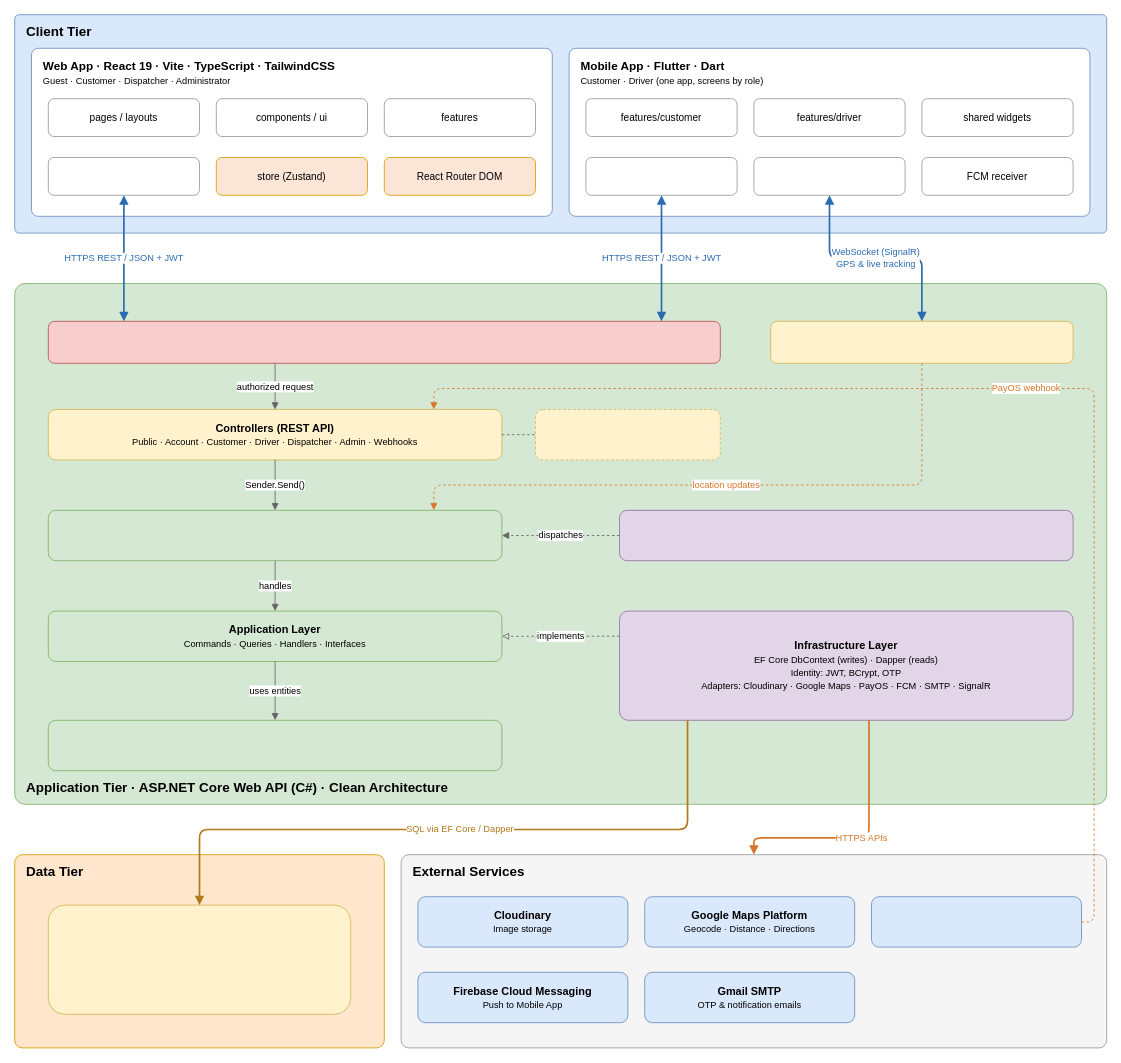
The diagram is 1121 pixels wide and 1063 high, and some of its shapes have lost their labels. Here are the shapes that lost their labels. From the top down, the centre of each, then its label:
At point (123, 176): "services (Axios)".
At point (661, 176): "core: ApiClient (Dio)".
At point (829, 176): "SignalR + GPS".
At point (383, 341): "JWT Authentication & Role-based Authorization".
At point (921, 341): "SignalR TrackingHub".
At point (627, 434): "Exception Middleware → ProblemDetails (RFC 7807)".
At point (274, 535): "MediatR Pipeline Logging → Validation → Handler".
At point (846, 535): "Background Jobs Payment expiry · Matching timeout · Auto-cancel · GPS purge".
At point (274, 745): "Domain Layer Entities · Business rules · Enums".
At point (976, 921): "PayOS Payment link · Webhook".
At point (199, 959): "MySQL 8 Relational business data EF Core migrations".
